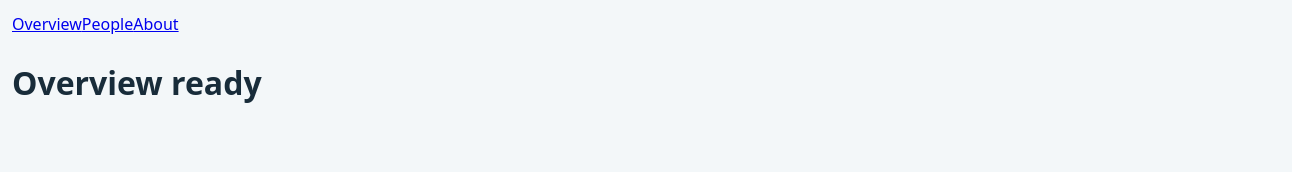
Test case: RouteFocusManager › focuses the newly committed heading only after a deferred page resolves
This screenshot has width=1292, height=172.
Later steps or results of the test are not shown.
Click the link "People" at (108, 24), box [82,13,133,35]
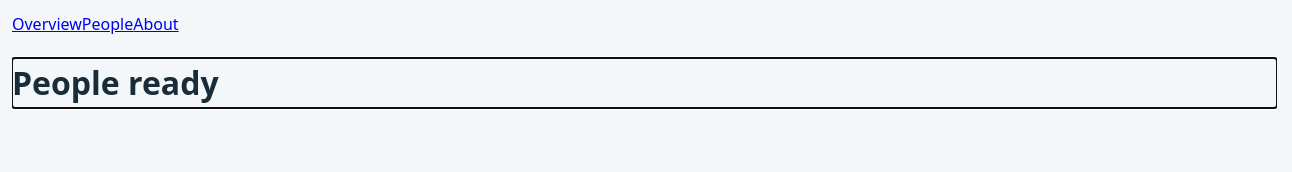
expect the heading "People ready" has attribute tabindex="-1": met, box [12,61,219,104]
